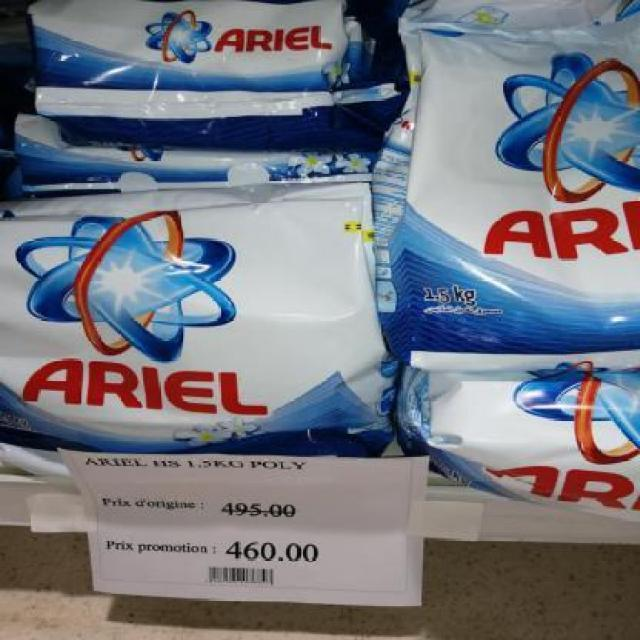Detergent: (0, 182, 383, 450), (360, 22, 634, 372), (40, 0, 362, 166), (416, 352, 638, 520)
